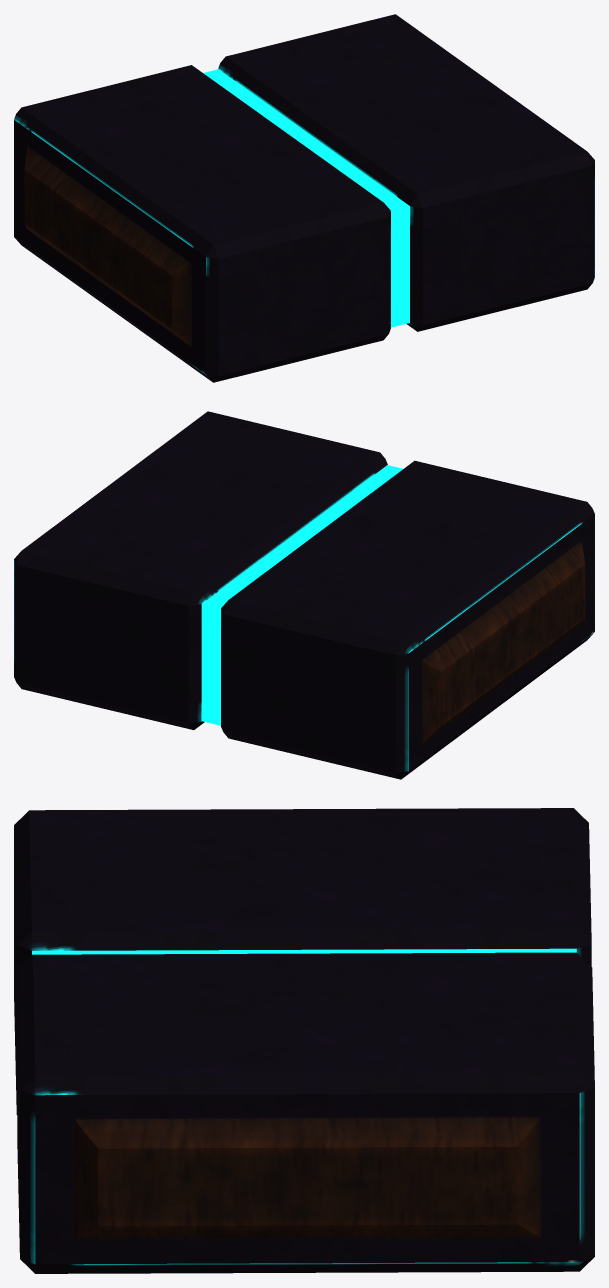
The model's file is ARC0810057.fbx.
The picture shows the model from 3 angles, top to bottom: view 1: azimuth 30°, elevation 25°; view 2: azimuth 150°, elevation 25°; view 3: azimuth 270°, elevation 25°; orthographic projection. The views are drawn at different scales.
Visible parts, largest first — view 1: smARC0810057; view 2: smARC0810057; view 3: smARC0810057.
Boxes of the visible parts, box(x1,y1,x2,y2) form: smARC0810057: box(14, 14, 594, 382); smARC0810057: box(14, 411, 594, 779); smARC0810057: box(14, 808, 594, 1273).
Bounding box in the file's own units: 126 × 39.86 × 105.
1 material, 1 textured.
